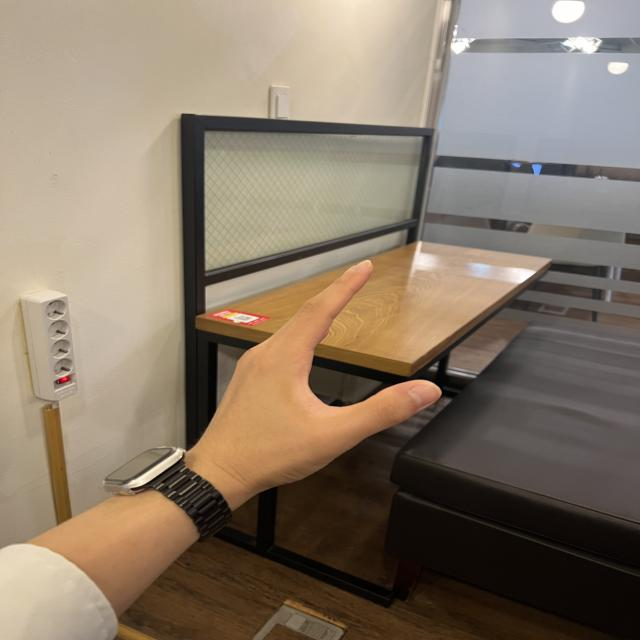Nail: (408, 383, 441, 408), (348, 260, 372, 273)
